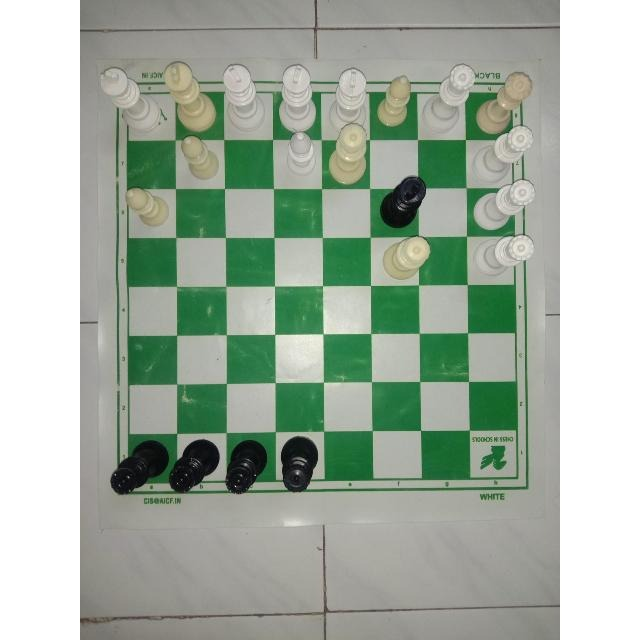black-king: (376, 174, 428, 230)
black-queen: (108, 437, 171, 497), (169, 435, 223, 495), (223, 438, 270, 498), (278, 433, 322, 495)
white-bishop: (375, 71, 414, 132), (178, 134, 225, 182), (122, 188, 171, 232), (284, 128, 320, 182)
white-king: (96, 66, 166, 140), (160, 61, 218, 135), (220, 61, 270, 135), (271, 64, 322, 134), (326, 66, 375, 137)
white-queen: (466, 123, 537, 185), (475, 67, 537, 136), (418, 65, 476, 137), (470, 177, 542, 235), (471, 232, 536, 282), (324, 121, 371, 189), (378, 234, 432, 286)
